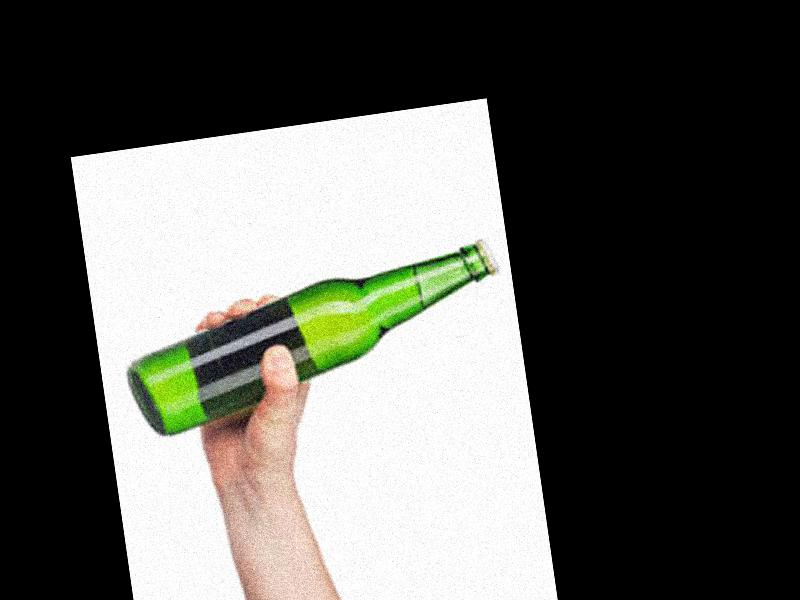Beer: (114, 237, 515, 440)
